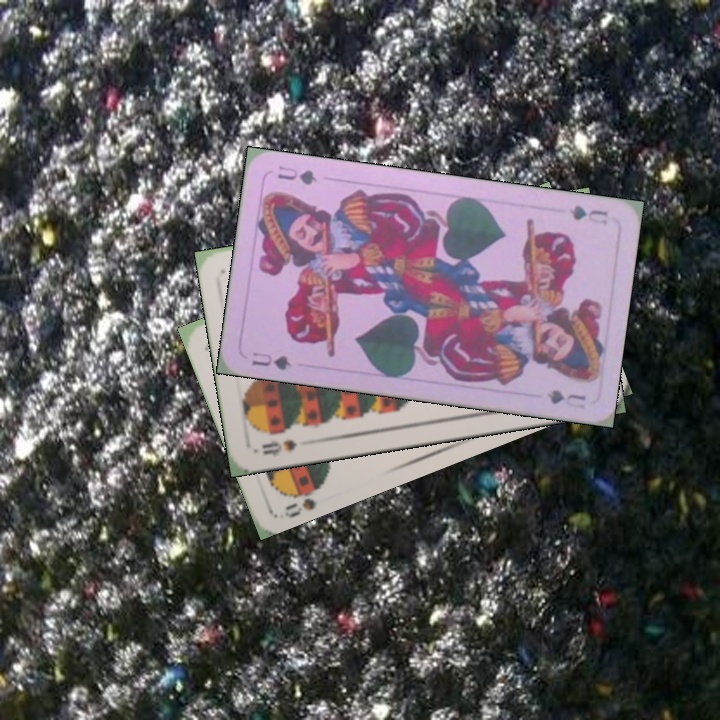GU: (565, 201, 610, 227), (248, 348, 294, 373)
S8: (258, 435, 300, 459)
SO: (279, 477, 328, 520)
